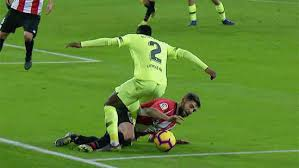fall: (52, 87, 207, 151)
